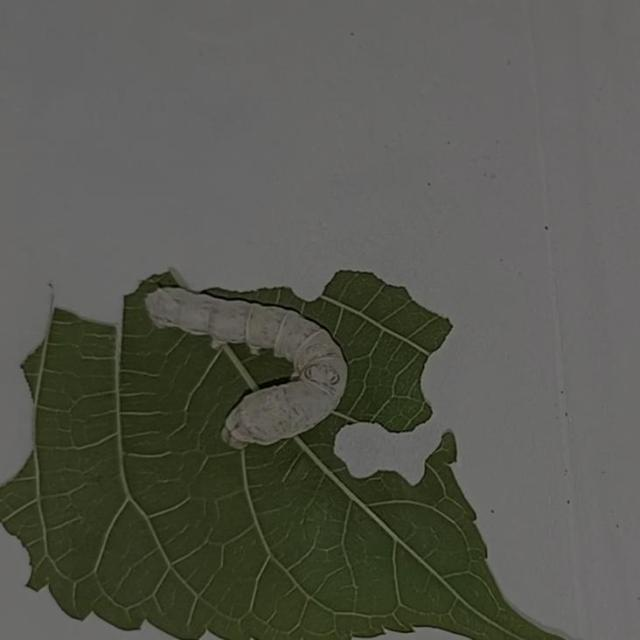Healthy: (136, 272, 355, 461)
